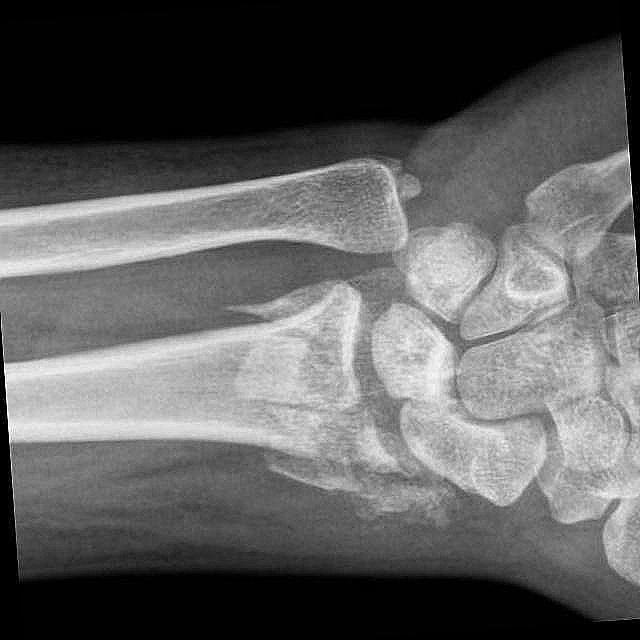bone: (221, 274, 379, 512)
